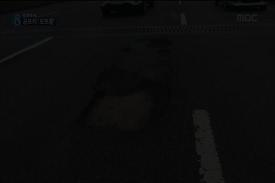pothole: (59, 81, 179, 136)
